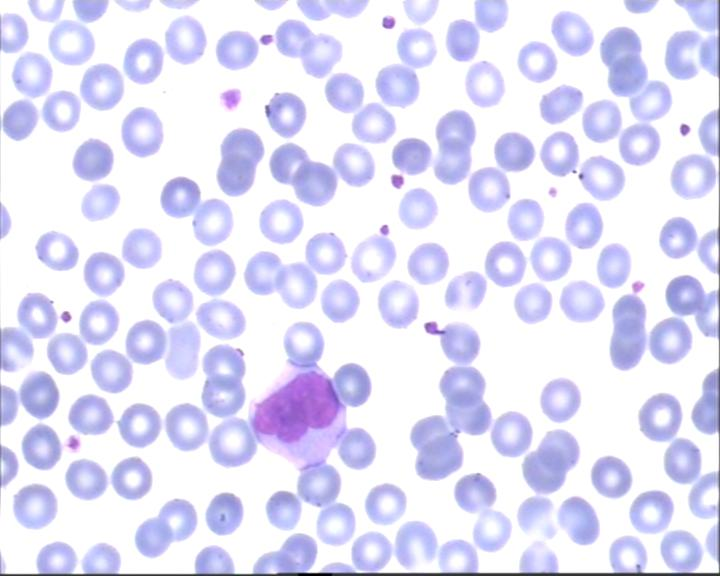mono: (247, 357, 350, 474)
